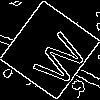W: (24, 25, 90, 90)
